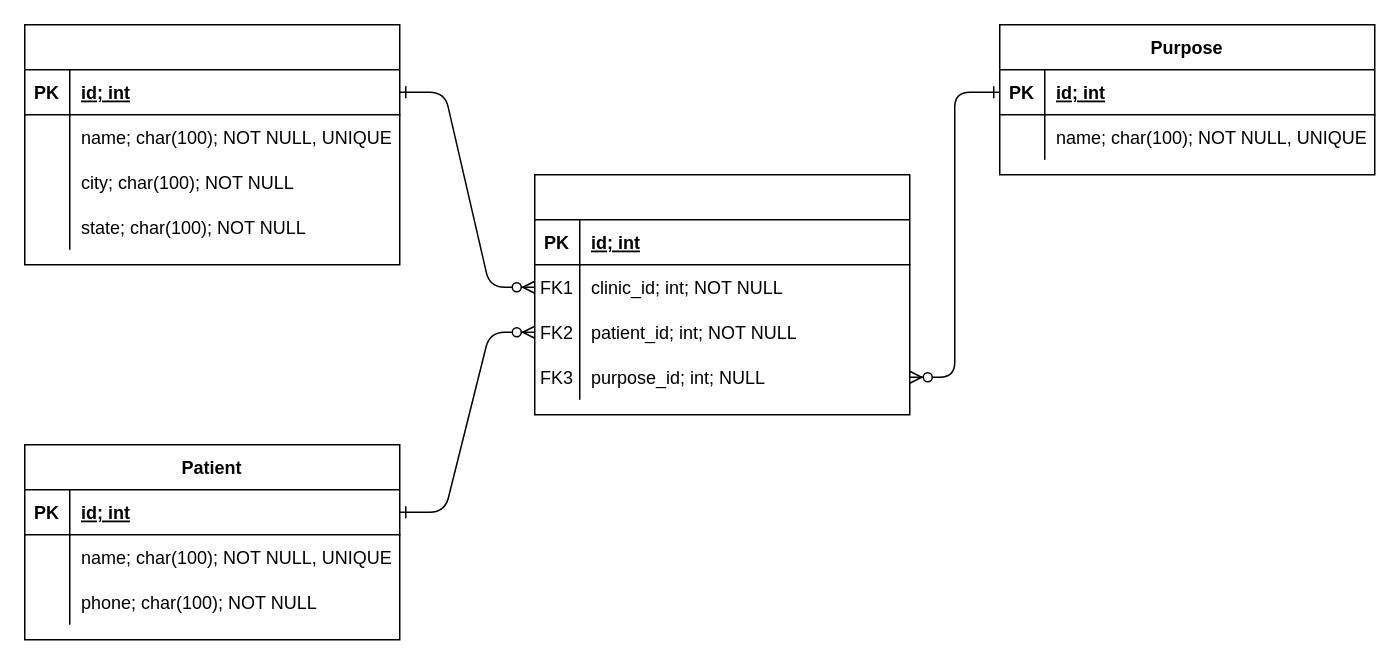
This 1400x665 diagram has some shape labels left out. Each missing label, with the box of its shape:
Clinic: (23, 23, 400, 265)
Visit: (533, 173, 910, 415)
